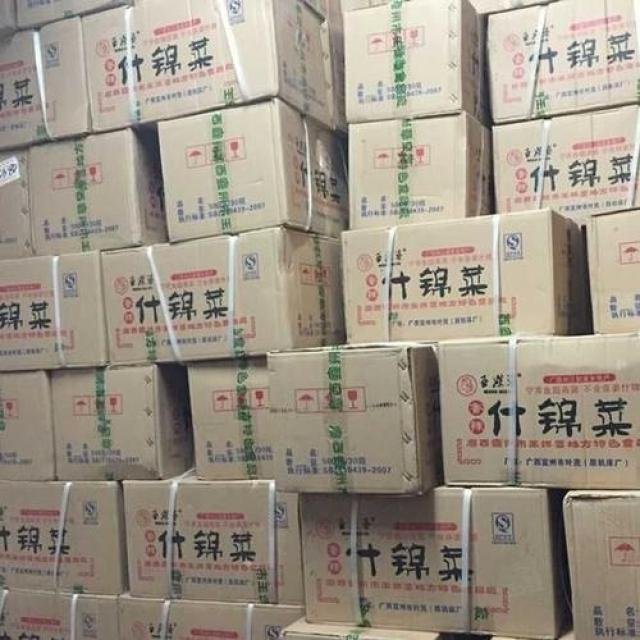box: (298, 486, 572, 640), (101, 227, 343, 366), (81, 0, 335, 132), (342, 209, 590, 344), (436, 333, 640, 490), (156, 96, 347, 243), (265, 342, 443, 495), (123, 468, 305, 607), (484, 0, 640, 123), (27, 122, 168, 256), (343, 0, 489, 128), (492, 102, 640, 225), (347, 111, 492, 230), (49, 362, 193, 481), (0, 481, 125, 595), (0, 252, 108, 371), (0, 17, 91, 148), (562, 490, 640, 640), (186, 355, 274, 479), (119, 596, 305, 640), (585, 207, 640, 334), (0, 370, 55, 481), (0, 590, 119, 640), (283, 612, 443, 640), (13, 0, 140, 29), (0, 146, 32, 260)
